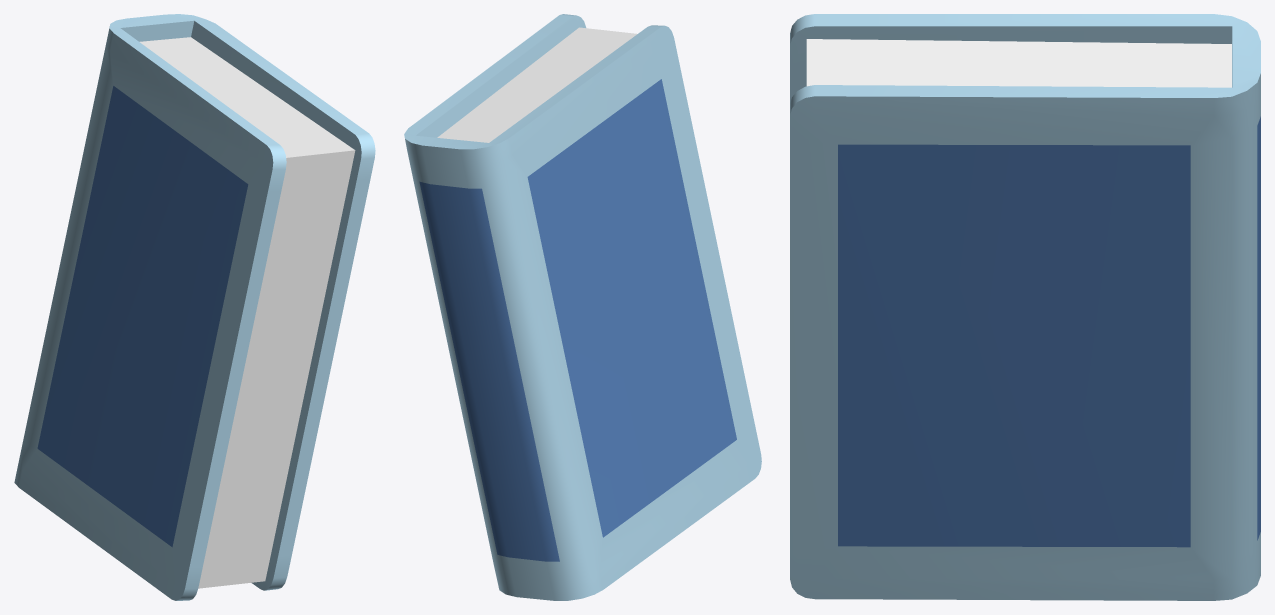
The model's file is book_24.fbx.
The picture shows the model from 3 angles, left to right: view 1: azimuth 30°, elevation 25°; view 2: azimuth 150°, elevation 25°; view 3: azimuth 270°, elevation 25°; orthographic projection. The views are drawn at different scales.
Visible parts, largest first — view 1: book_24; view 2: book_24; view 3: book_24.
Boxes of the visible parts, x1,y1,x2,y2 form: book_24: (14,14,375,600); book_24: (404,14,761,600); book_24: (790,14,1260,600).
Bounding box in the file's own units: 0.1336 × 0.2886 × 0.2112.
